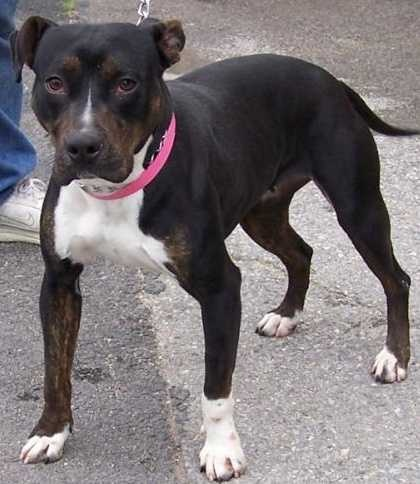Dog: (11, 16, 419, 479)
